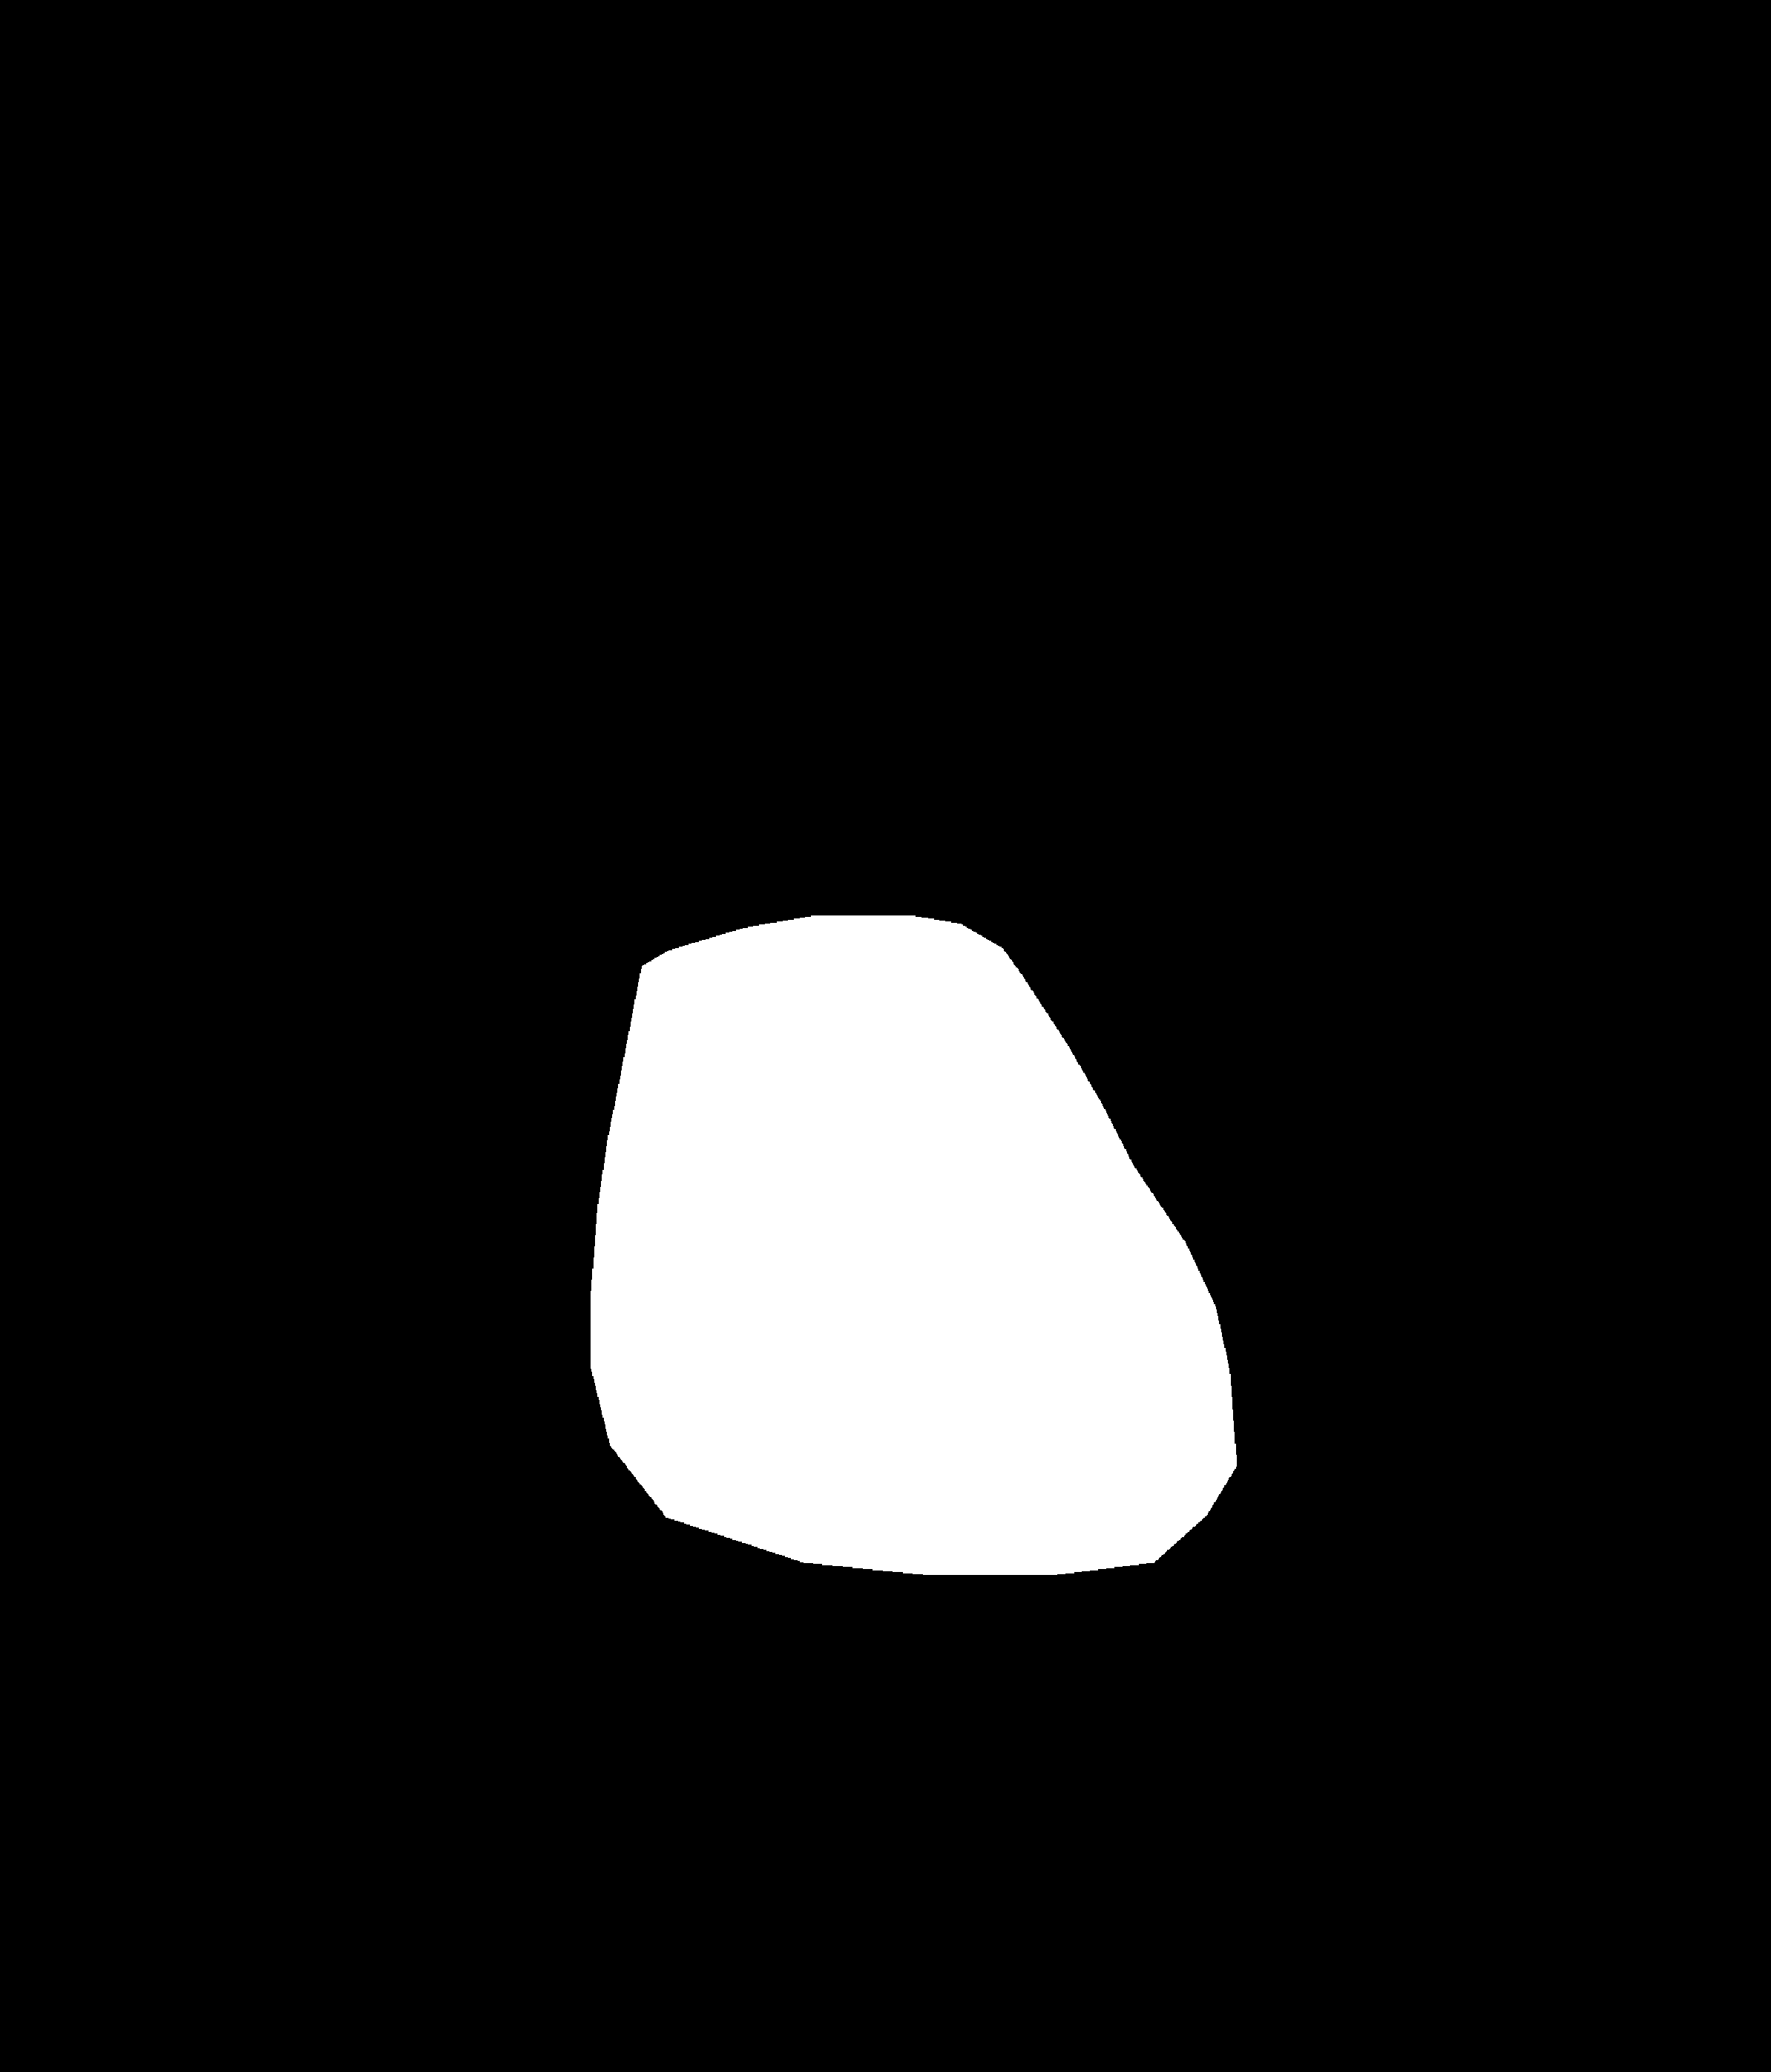heart: (587, 1041, 1226, 1575)
left_lung: (183, 311, 689, 1781)
right_lung: (850, 184, 1558, 1916)
